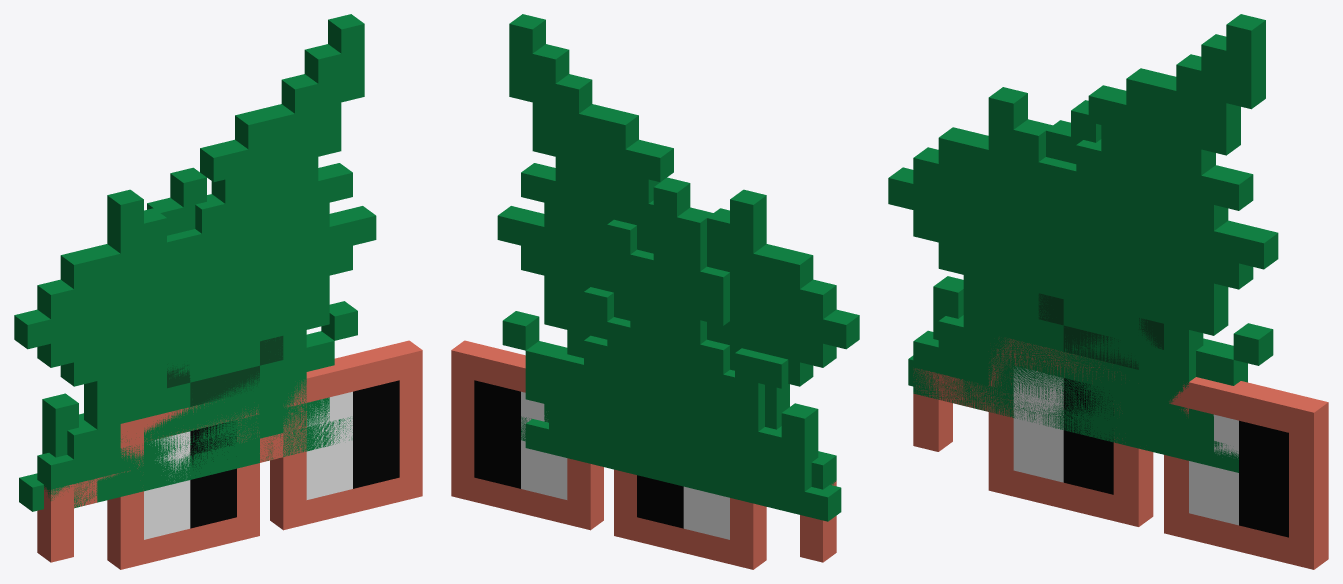
Rendered from weed.glb.
The picture shows the model from 3 angles, left to right: view 1: azimuth 30°, elevation 25°; view 2: azimuth 150°, elevation 25°; view 3: azimuth 330°, elevation 25°; orthographic projection. The views are drawn at different scales.
Visible parts, largest first — view 1: back, Weed, monture, i, glass (1), mouth, t, w, q, r; view 2: back, Weed, monture, i, glass (1), q, r, t, w, a, e, y (+1 smaller); view 3: back, Weed, monture, i, glass (1), w, mouth, t, q.
Boxes of the visible parts, x1,y1,x2,y2 form: back: (14,142,376,502); Weed: (44,167,329,508); monture: (37,340,422,569); i: (195,14,364,275); glass (1): (144,380,399,539); mouth: (167,336,283,406); t: (42,393,78,457); w: (306,301,357,371); q: (306,331,334,371); r: (19,413,83,511); back: (497,142,859,489); Weed: (567,177,836,485); monture: (451,340,836,569); i: (509,14,661,263); glass (1): (474,380,729,539); q: (525,341,665,475); r: (665,360,841,521); t: (665,403,818,510); w: (502,311,665,481); a: (665,348,764,489); e: (525,379,664,470); y: (665,354,788,446); back: (888,85,1278,472); Weed: (913,100,1213,466); monture: (913,338,1328,569); i: (1076,14,1265,241); glass (1): (1013,366,1288,537); w: (1196,323,1273,385); mouth: (1038,293,1163,369); t: (933,276,963,340); q: (1196,351,1241,385).
Bounding box in the file's own units: 17 × 20 × 1.5.
Materials: 6 (6 with a texture image).
